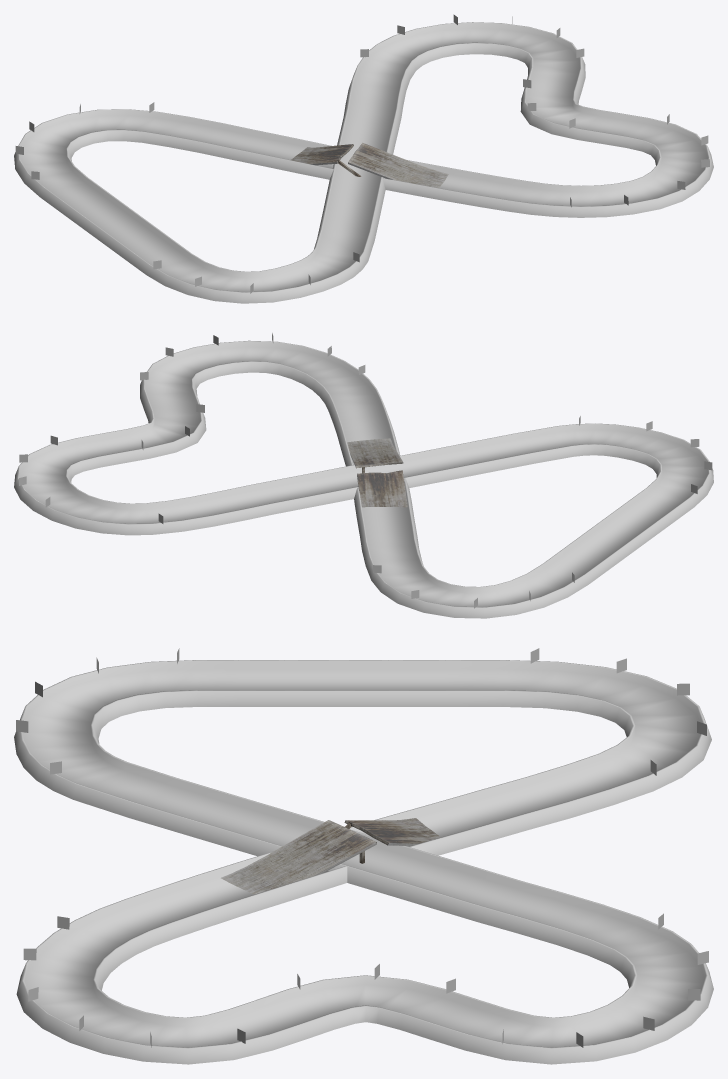
Rendered from Track1.fbx.
The picture shows the model from 3 angles, top to bottom: view 1: azimuth 30°, elevation 25°; view 2: azimuth 150°, elevation 25°; view 3: azimuth 270°, elevation 25°; orthographic projection. The views are drawn at different scales.
Visible parts, largest first — view 1: Track03, Bridge, Signs; view 2: Track03, Bridge, Signs; view 3: Track03, Bridge, Signs.
Part boxes in pixels (x1=…): Track03: x1=14, y1=22, x2=713, y2=303; Bridge: x1=291, y1=142, x2=448, y2=187; Signs: x1=15, y1=14, x2=709, y2=293; Track03: x1=14, y1=340, x2=713, y2=618; Bridge: x1=347, y1=438, x2=407, y2=507; Signs: x1=19, y1=333, x2=712, y2=608; Track03: x1=14, y1=660, x2=713, y2=1064; Bridge: x1=221, y1=818, x2=440, y2=894; Signs: x1=16, y1=648, x2=708, y2=1047.
Size of what is drawn, in the model's own units: 10841 by 359 by 8152.
